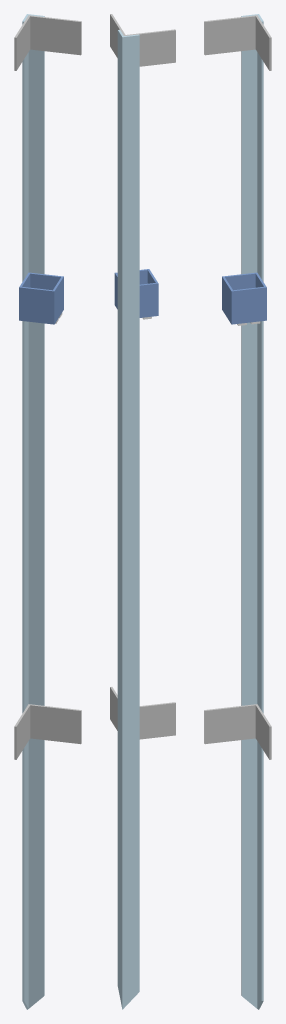
The model's file is sand-spike-GLTF-Aligned.gltf.
The picture shows the model from 3 angles, left to right: view 1: azimuth 30°, elevation 25°; view 2: azimuth 150°, elevation 25°; view 3: azimuth 330°, elevation 25°; orthographic projection. The views are drawn at different scales.
Visible parts, largest first — view 1: mesh18_meshnode_18, mesh22_meshnode_22, mesh31_meshnode_31 (×2), mesh21_meshnode_21, mesh2_meshnode_2, mesh30_meshnode_30 (×2), mesh17_meshnode_17, mesh6_meshnode_6, mesh3_meshnode_3; view 2: mesh20_meshnode_20, mesh16_meshnode_16, mesh26_meshnode_26 (×2), mesh1_meshnode_1, mesh25_meshnode_25 (×2); view 3: mesh22_meshnode_22, mesh18_meshnode_18, mesh30_meshnode_30 (×2), mesh17_meshnode_17, mesh3_meshnode_3, mesh31_meshnode_31 (×2), mesh21_meshnode_21, mesh9_meshnode_9, mesh2_meshnode_2.
Part boxes in pixels (box(x1,y1,x2,y2)): mesh18_meshnode_18: box(28, 49, 43, 1008); mesh22_meshnode_22: box(24, 52, 28, 1008); mesh31_meshnode_31 (×2): box(30, 16, 80, 744); mesh21_meshnode_21: box(22, 21, 24, 1000); mesh2_meshnode_2: box(19, 287, 54, 324); mesh30_meshnode_30 (×2): box(16, 16, 30, 759); mesh17_meshnode_17: box(44, 16, 44, 995); mesh6_meshnode_6: box(30, 273, 60, 290); mesh3_meshnode_3: box(54, 277, 63, 324); mesh20_meshnode_20: box(122, 35, 139, 1009); mesh16_meshnode_16: box(117, 30, 122, 1008); mesh26_meshnode_26 (×2): box(139, 30, 175, 739); mesh1_meshnode_1: box(139, 283, 158, 317); mesh25_meshnode_25 (×2): box(110, 14, 119, 730); mesh22_meshnode_22: box(242, 49, 257, 1008); mesh18_meshnode_18: box(257, 52, 261, 1008); mesh30_meshnode_30 (×2): box(205, 16, 255, 744); mesh17_meshnode_17: box(261, 21, 263, 1000); mesh3_meshnode_3: box(231, 287, 266, 324); mesh31_meshnode_31 (×2): box(255, 16, 269, 759); mesh21_meshnode_21: box(241, 16, 241, 995); mesh9_meshnode_9: box(225, 273, 255, 290); mesh2_meshnode_2: box(222, 277, 231, 324).
Size of the model in its own units: 0.1078 by 1.52 by 0.0763.
